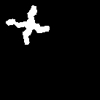single_crochet: (6, 6, 48, 43)
